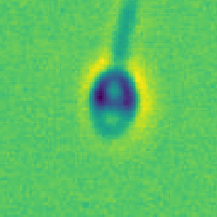normal: (105, 1, 140, 67)
